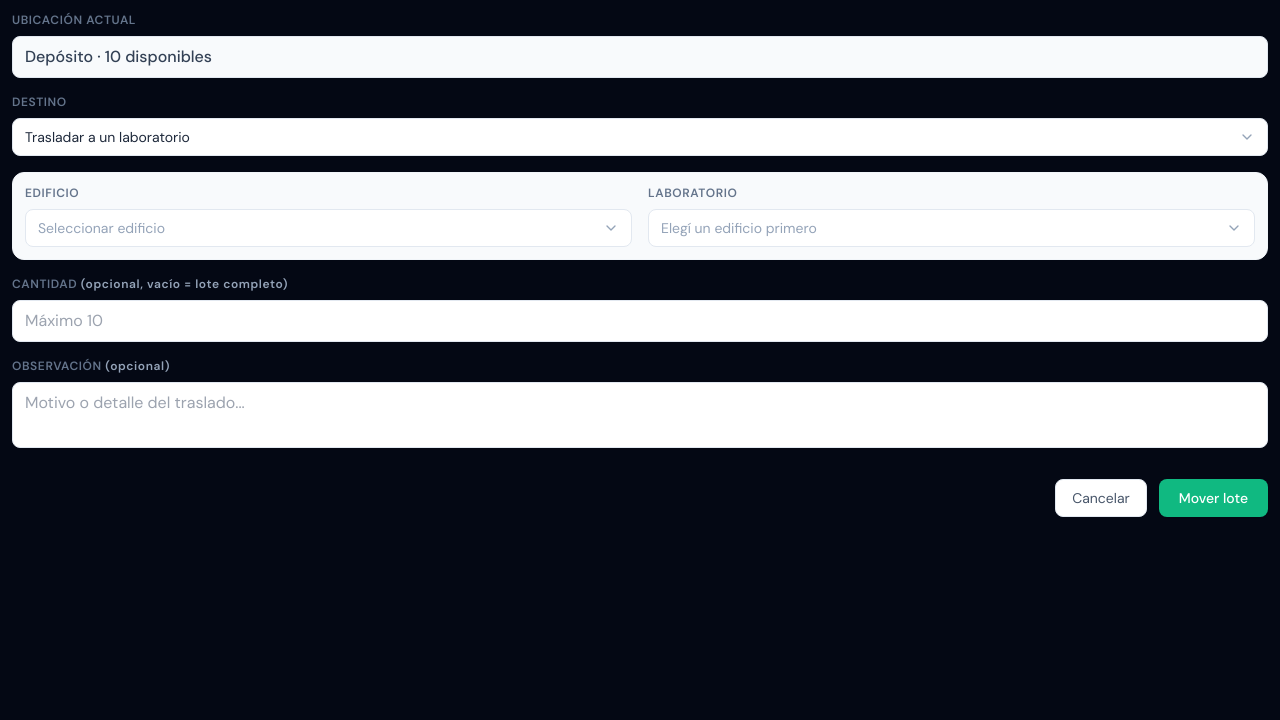
Test case: FormularioTransferirLote Component › exige elegir un laboratorio destino
Click the button "Mover lote" at (1213, 498), box [1159,479,1268,517]
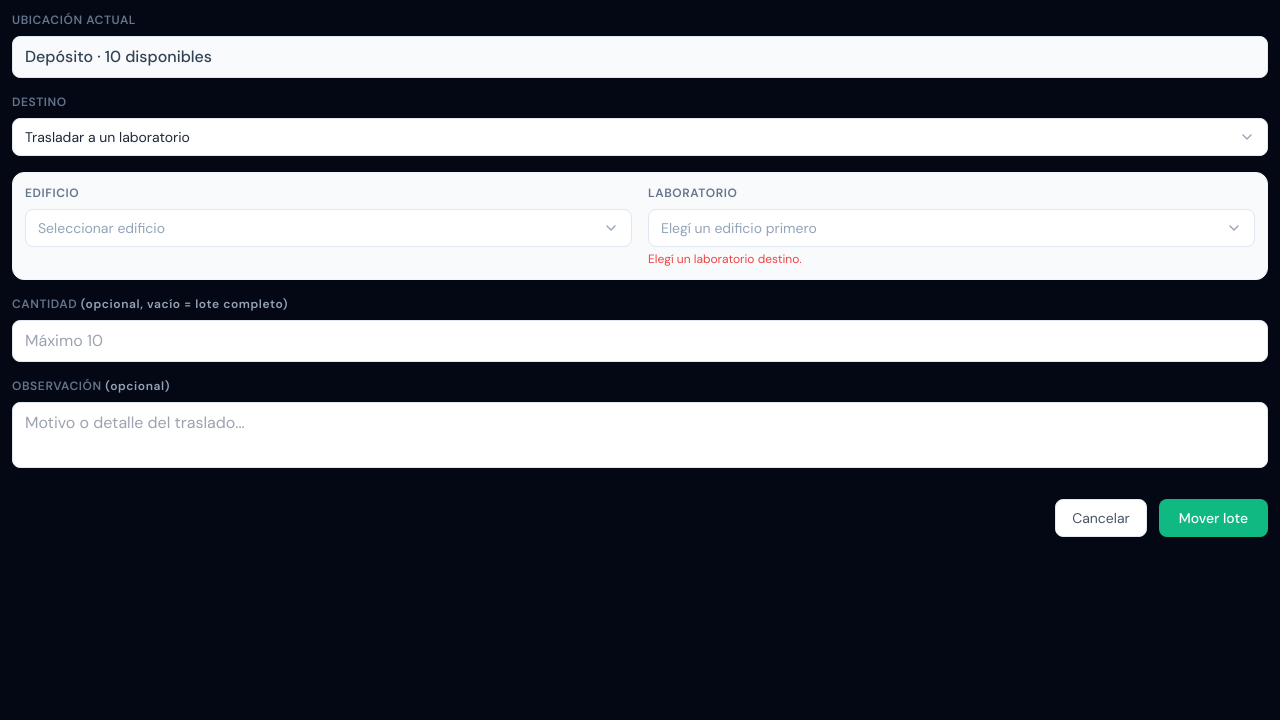
Result: the text "Elegí un laboratorio destino." is shown at [648,251,802,267]
